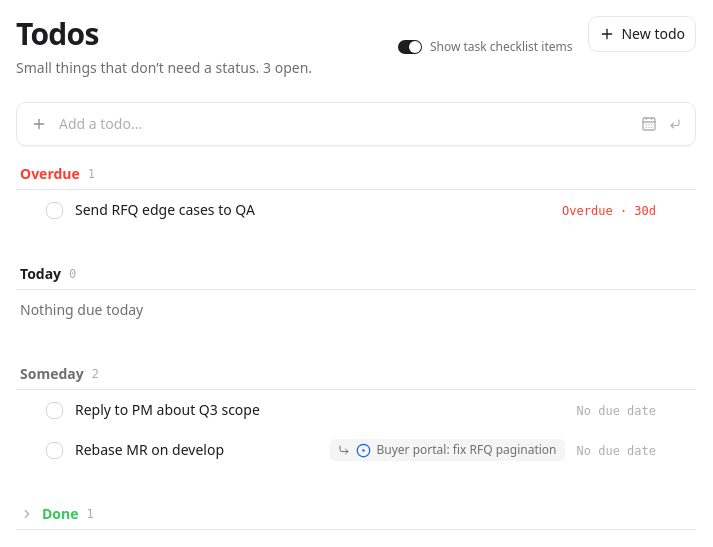
Test: TodosPage › shows the "↳ task" chip on a checklist todo, and the switch hides it
Check: the button "Rebase MR on develop" is shown, box [75,440,318,460]
Check: the text "Buyer portal: fix RFQ pagination" is shown, box [376,442,556,458]
Click the switch: (410, 47) [398,40,422,54]
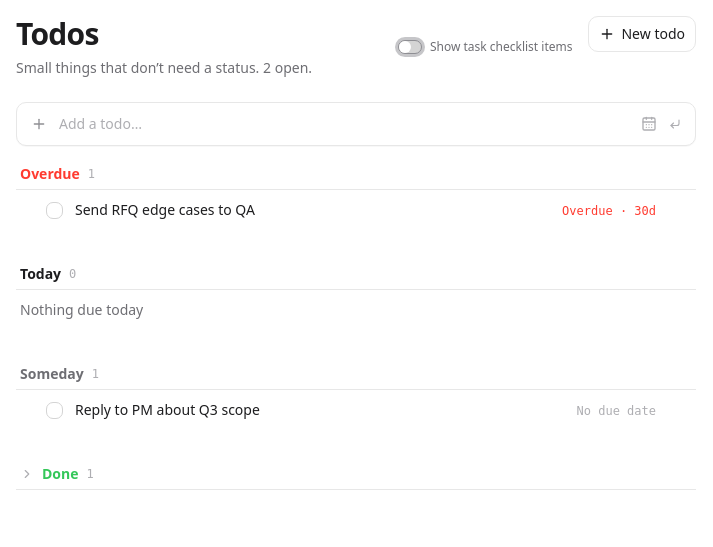
Check: the button "Rebase MR on develop" is gone
